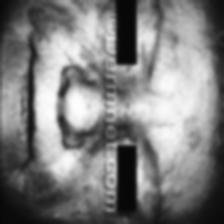Non-Cancerous Skin Condition: (19, 0, 102, 219), (118, 64, 176, 138), (139, 13, 180, 60), (180, 107, 206, 179)
